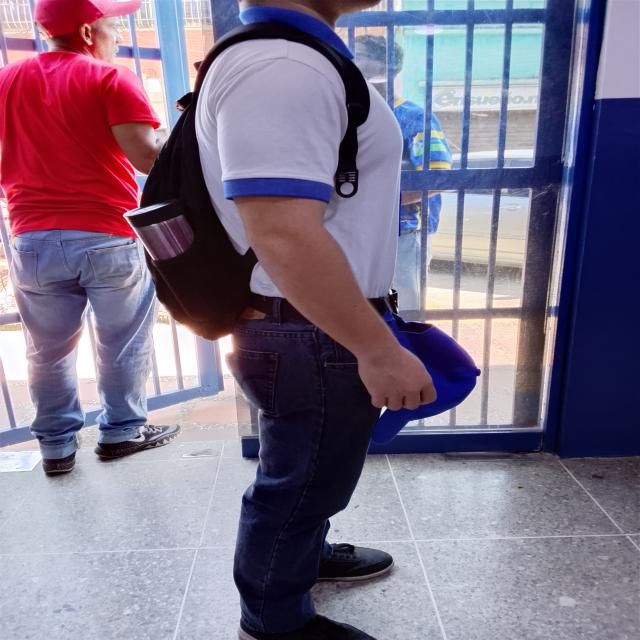pantalon_oscuro: (231, 322, 383, 631)
uniforme_superior: (194, 6, 404, 299)
